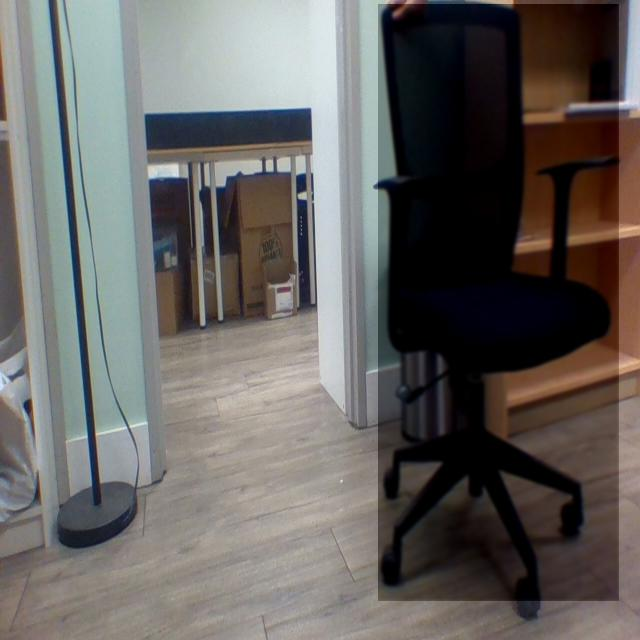black-chair: (378, 4, 620, 602)
